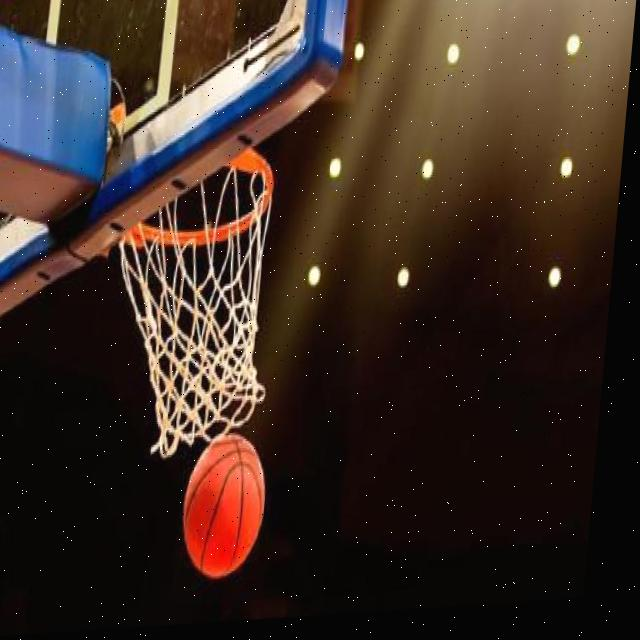Basketball: (179, 432, 273, 578)
